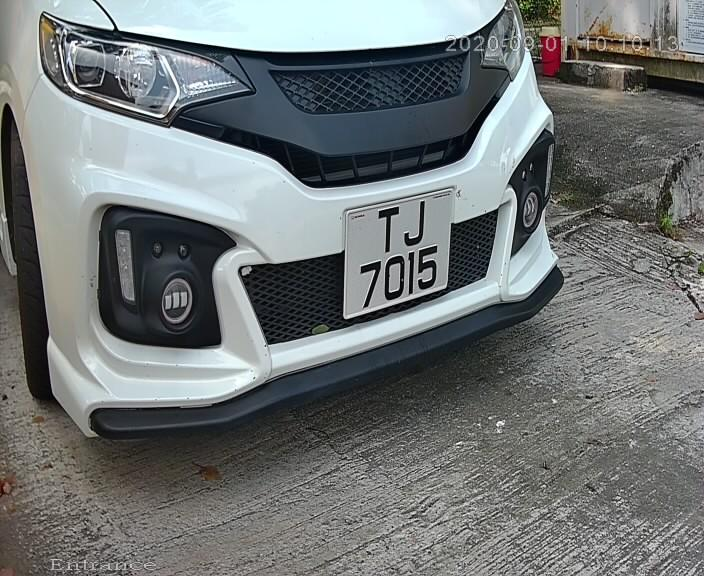License Plate: (337, 186, 456, 325)
